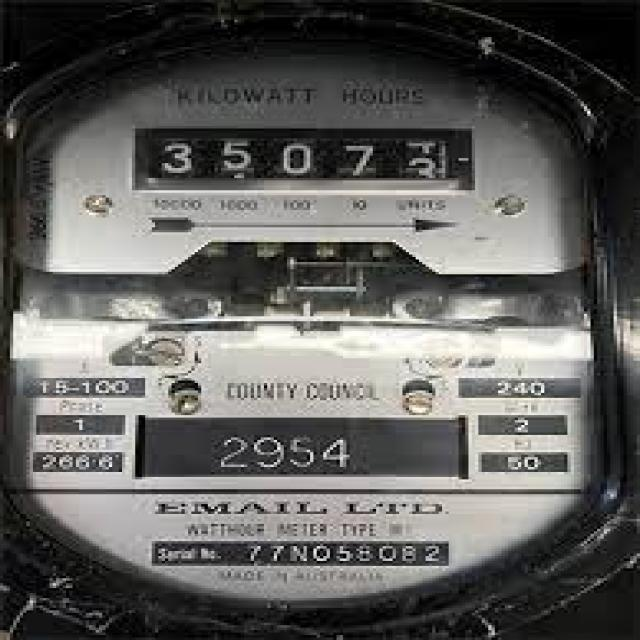0: (277, 138, 322, 178)
3: (156, 136, 201, 176)
5: (210, 137, 262, 170)
7: (334, 141, 389, 181)
analog meter: (132, 126, 478, 195)
